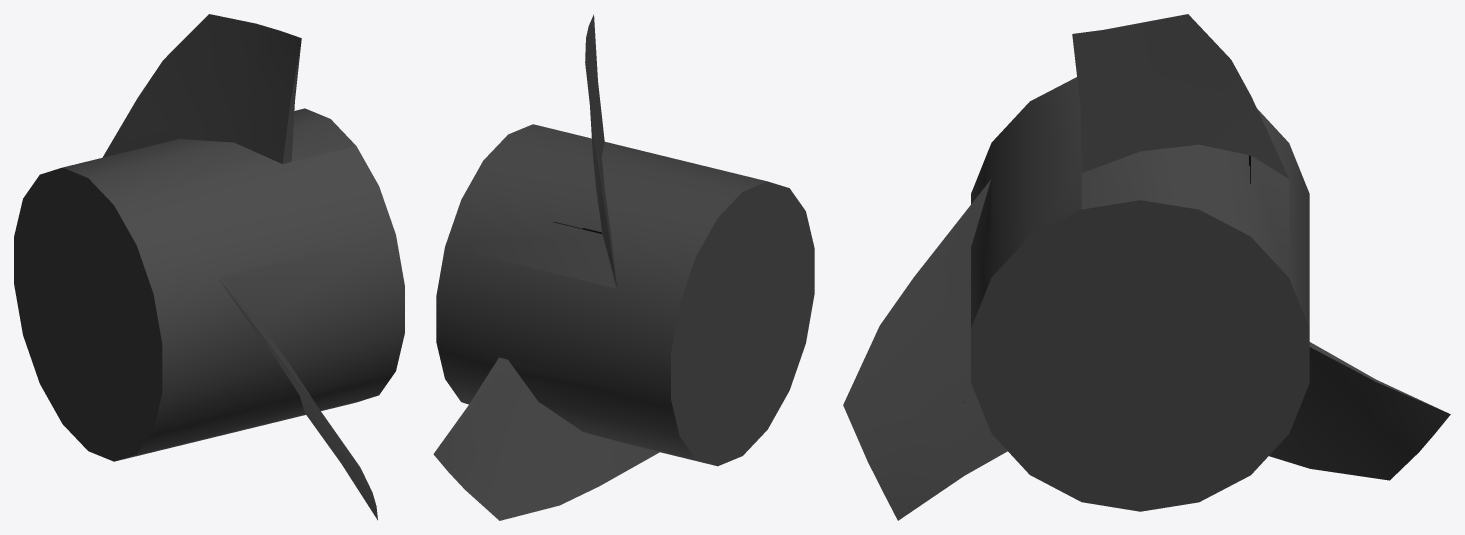
Rendered from x3_low_poly_propeller.dae.
The picture shows the model from 3 angles, left to right: view 1: azimuth 30°, elevation 25°; view 2: azimuth 150°, elevation 25°; view 3: azimuth 270°, elevation 25°; orthographic projection. The views are drawn at different scales.
Parts seen in each view (by area): view 1: X3 Low Poly Propeller; view 2: X3 Low Poly Propeller; view 3: X3 Low Poly Propeller.
Part boxes in pixels (x1,y1,x2,y2): X3 Low Poly Propeller: [14, 14, 404, 520]; X3 Low Poly Propeller: [433, 14, 814, 520]; X3 Low Poly Propeller: [843, 14, 1450, 520].
Bounding box in the file's own units: 0.0378 × 0.072 × 0.0637.
Materials: 1 (1 with a texture image).
